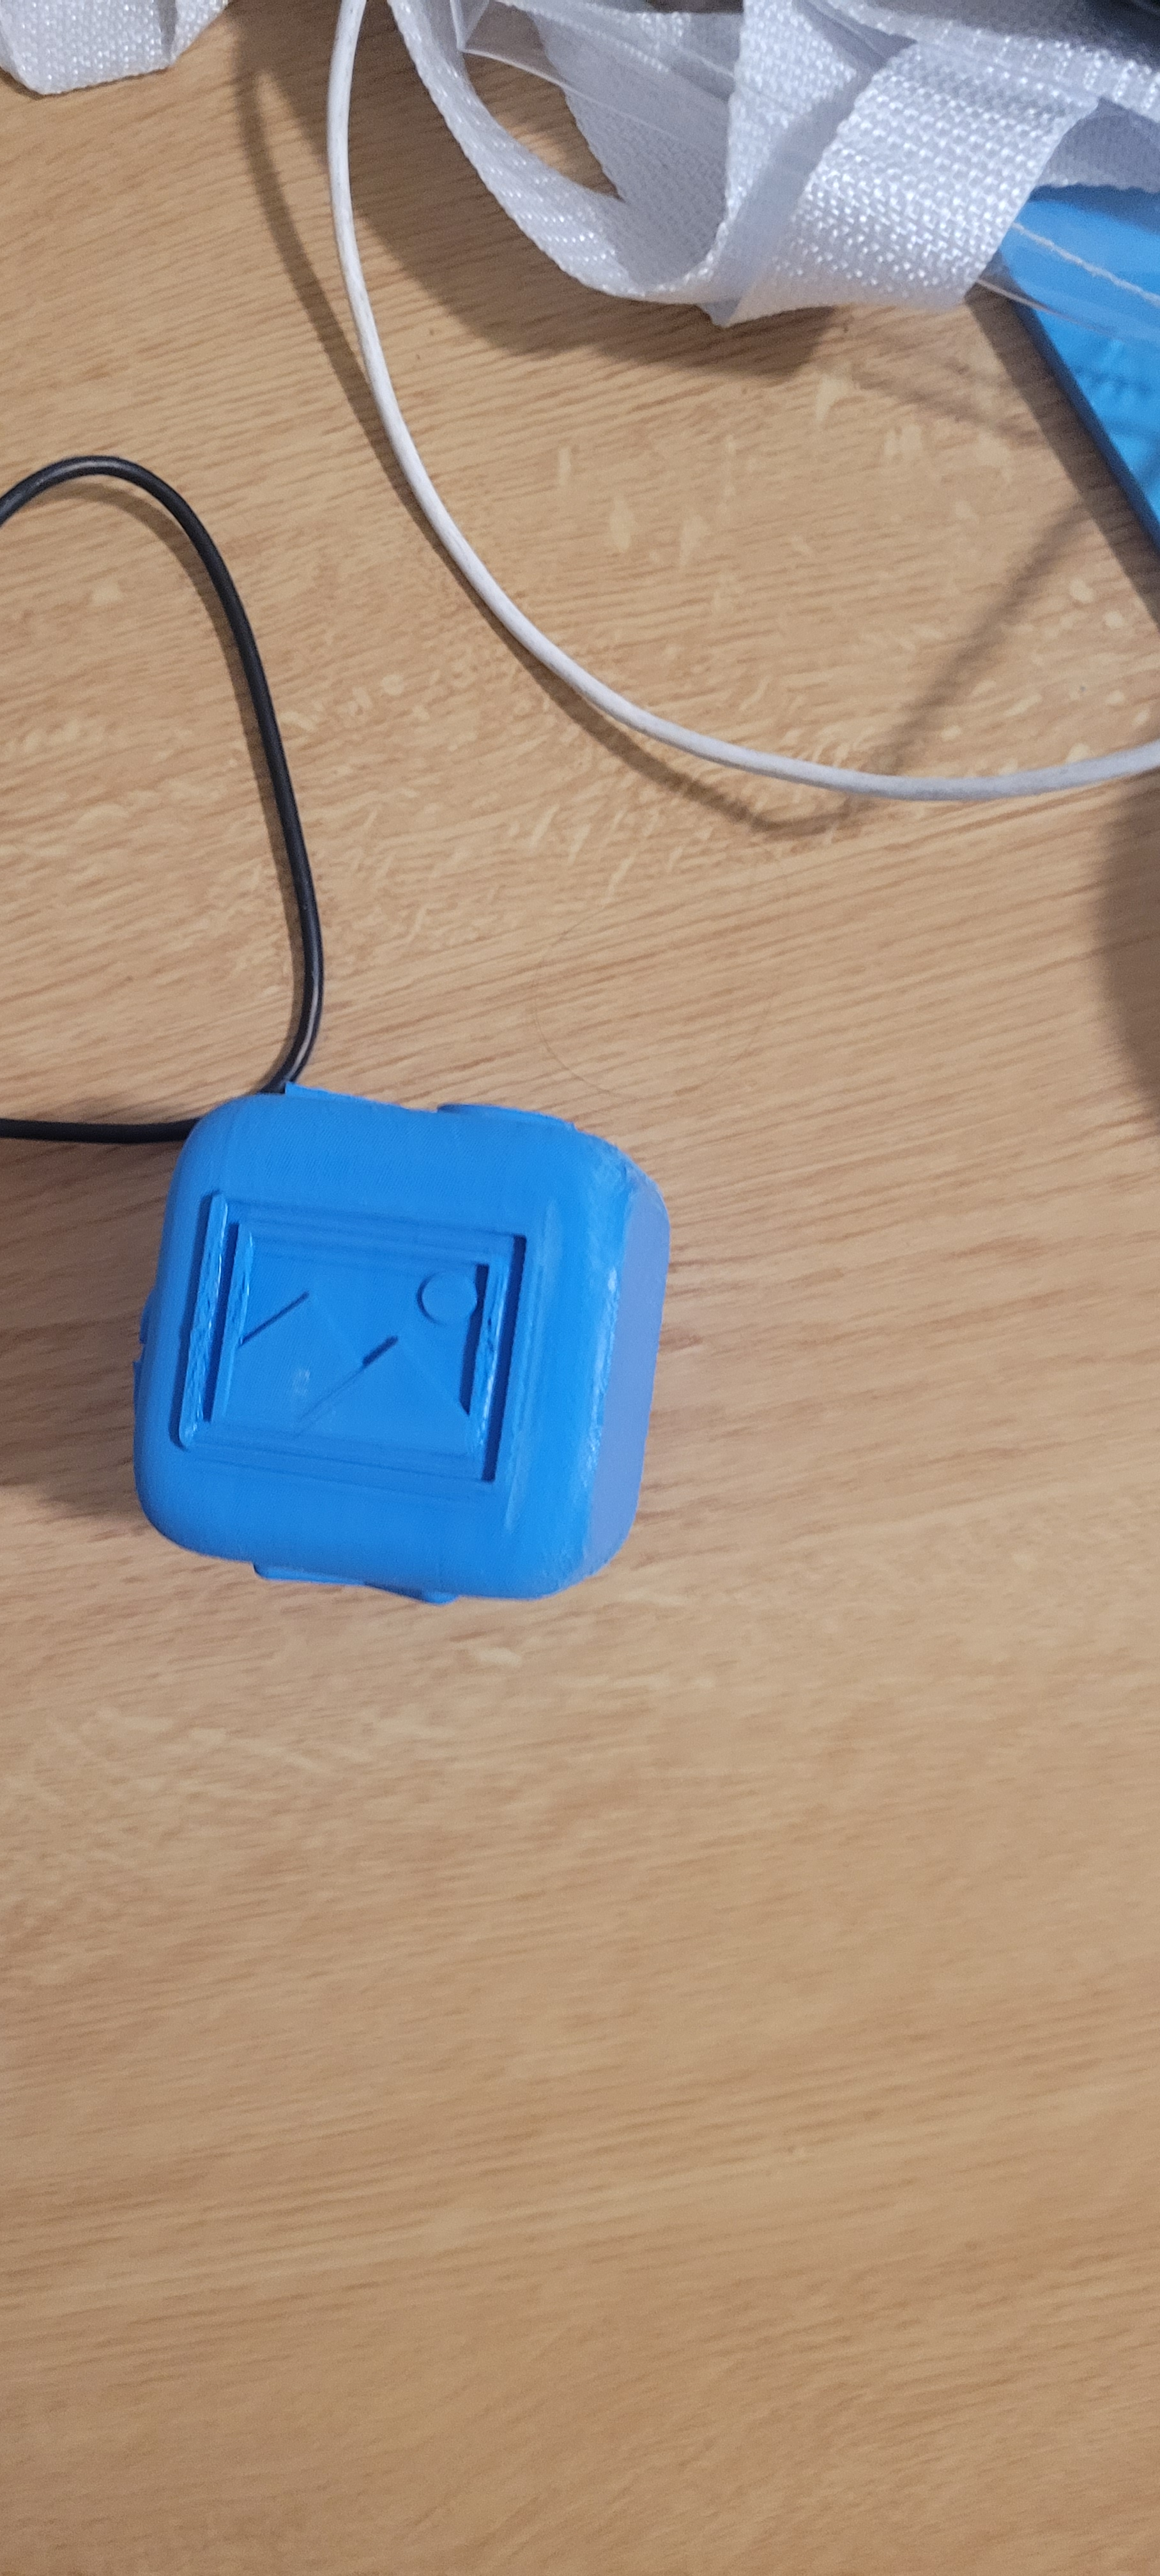Story: (171, 1173, 555, 1470)
